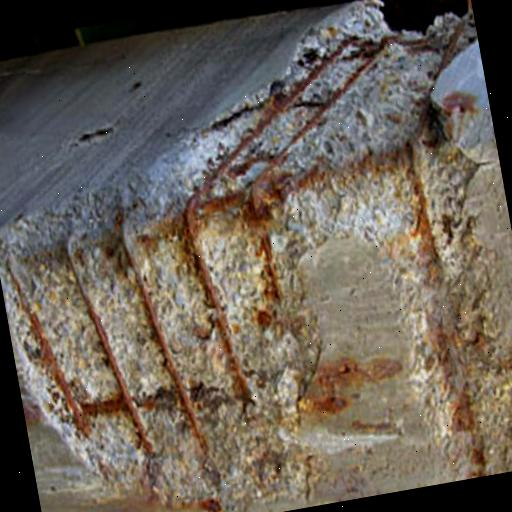spalling: (0, 3, 512, 489)
